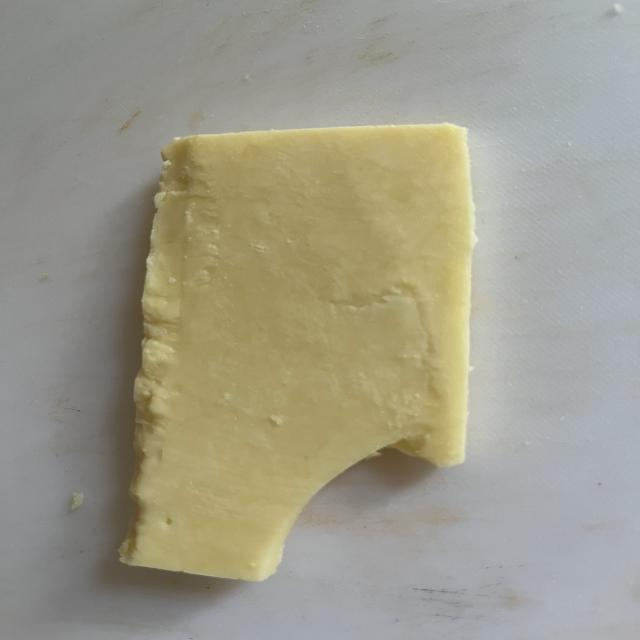cheese: (121, 125, 473, 580)
